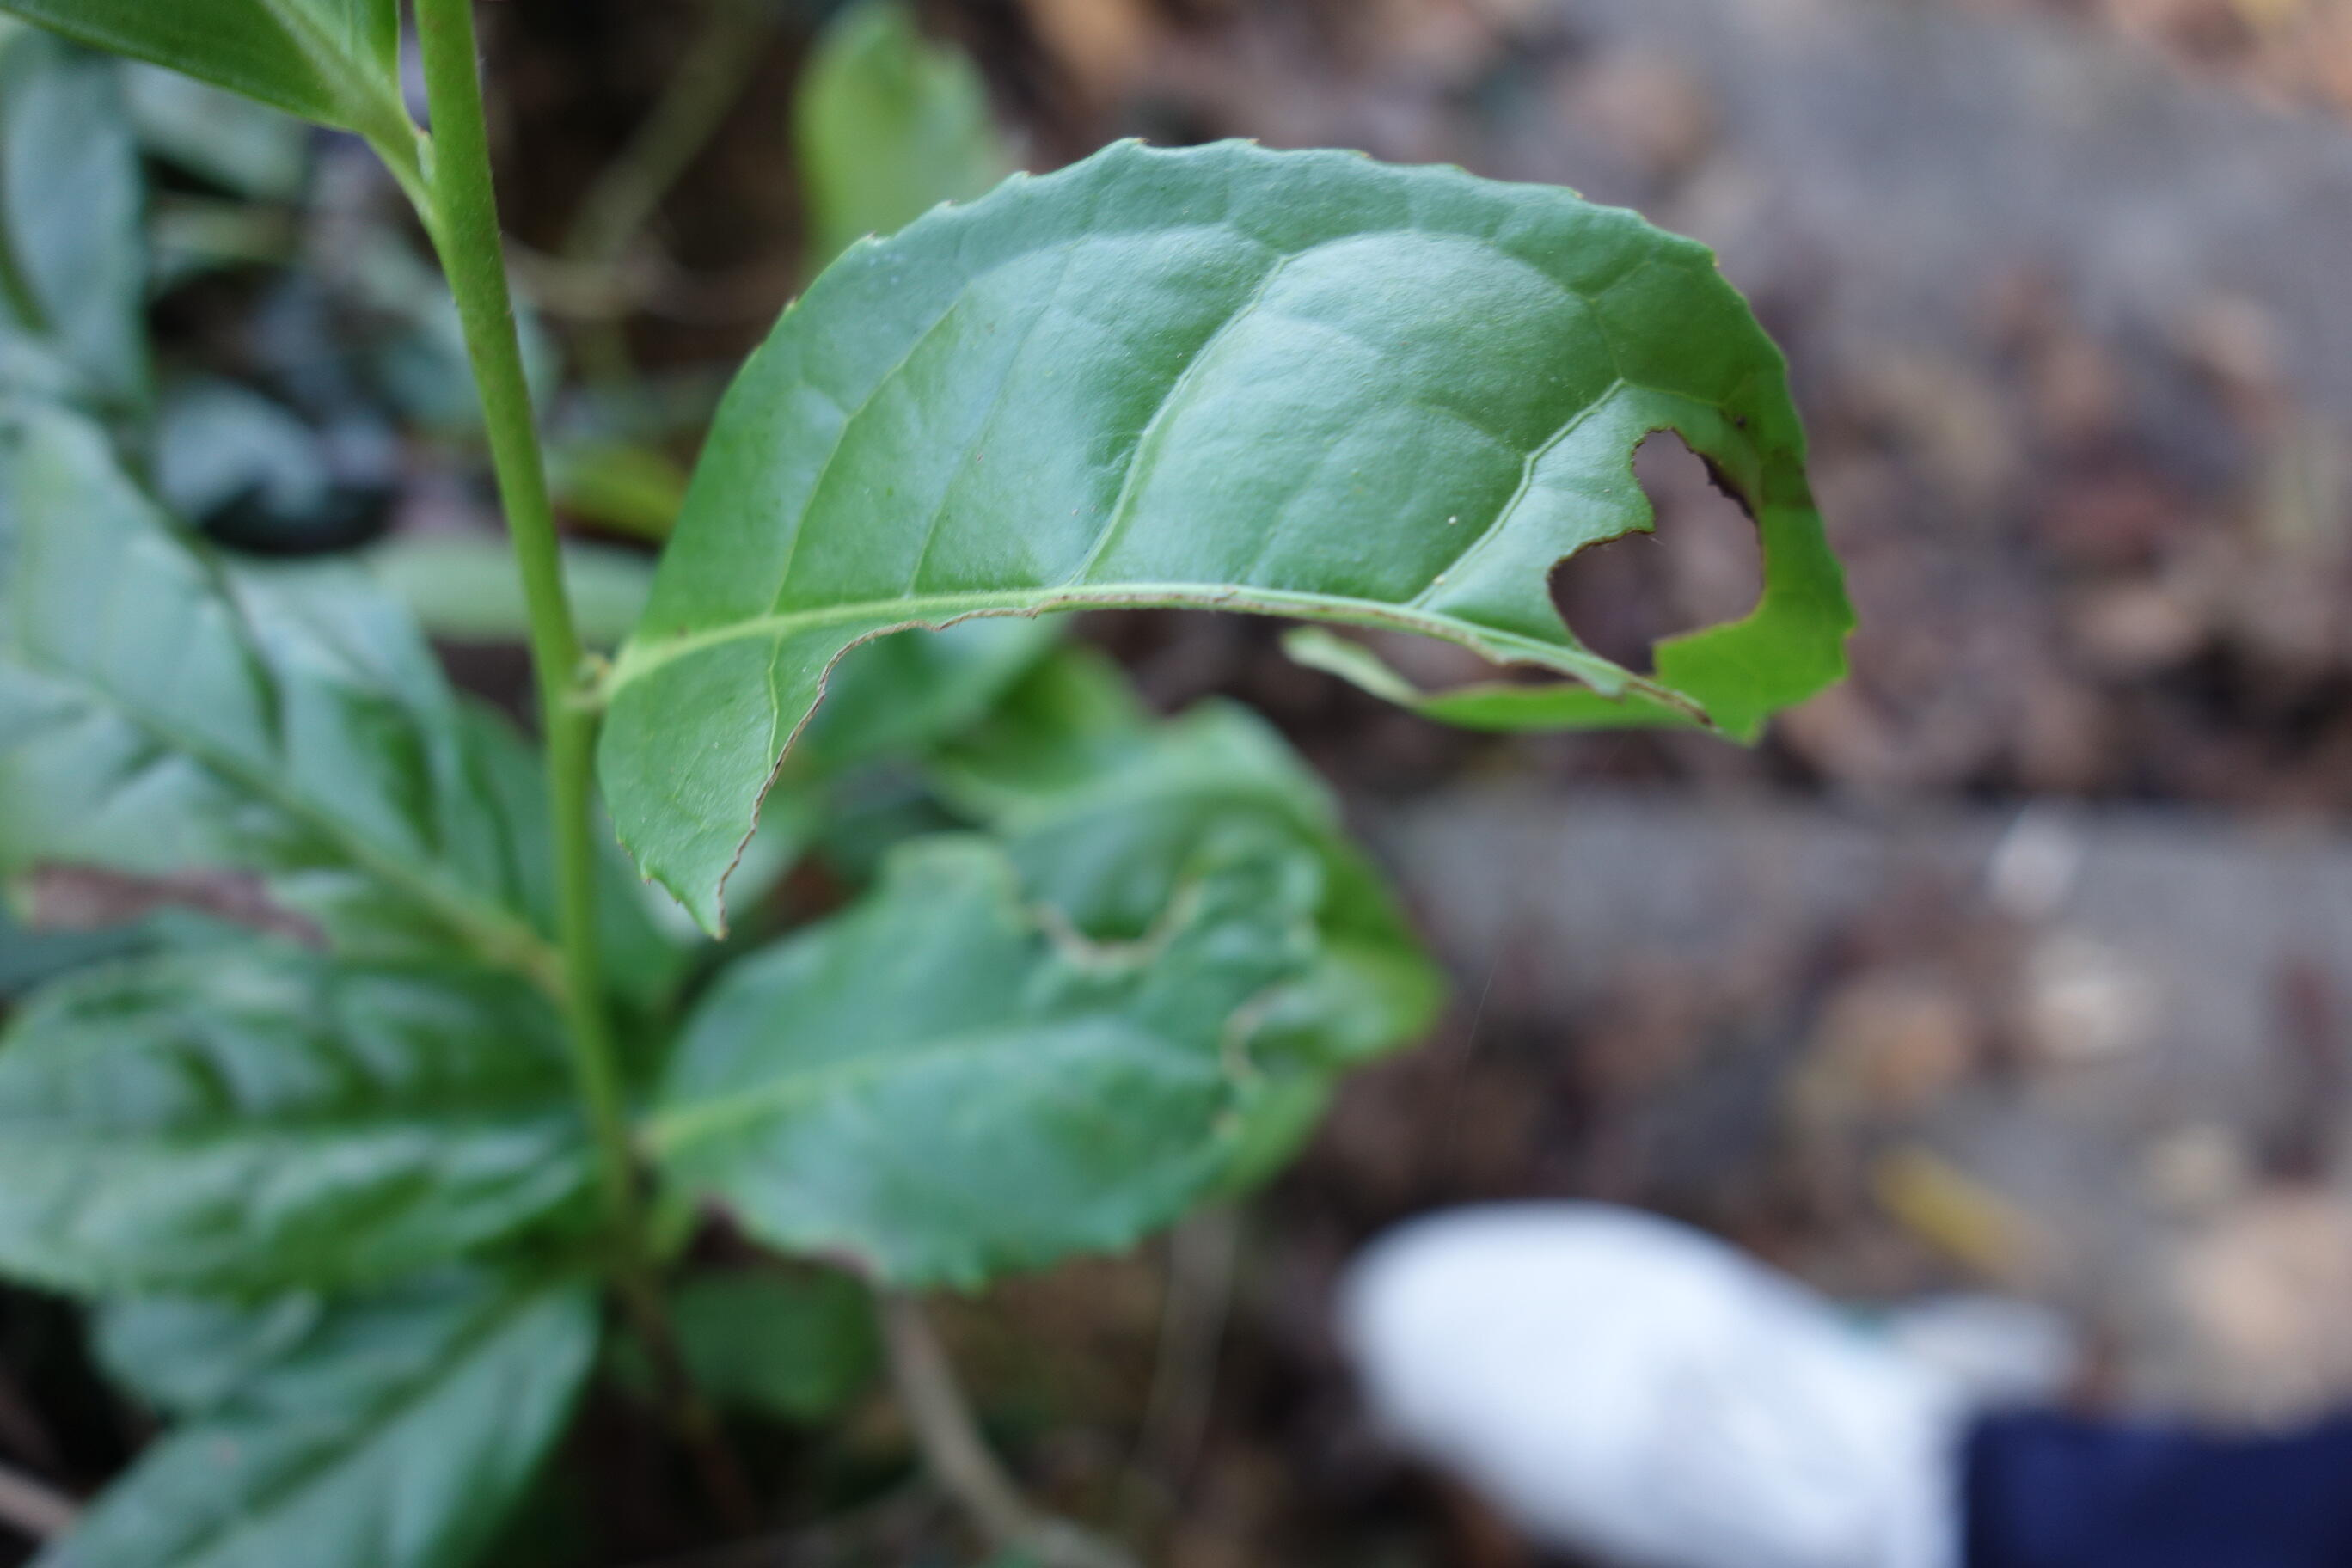chihuo_high: (598, 133, 1855, 947)
